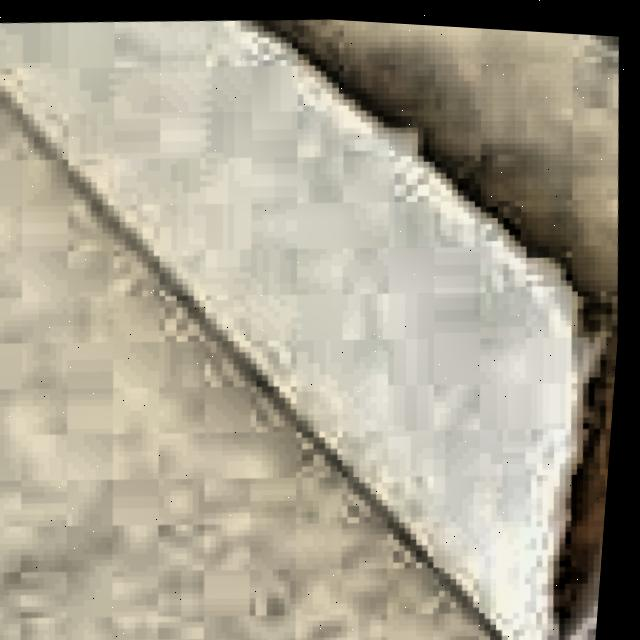paper: (0, 14, 622, 640)
